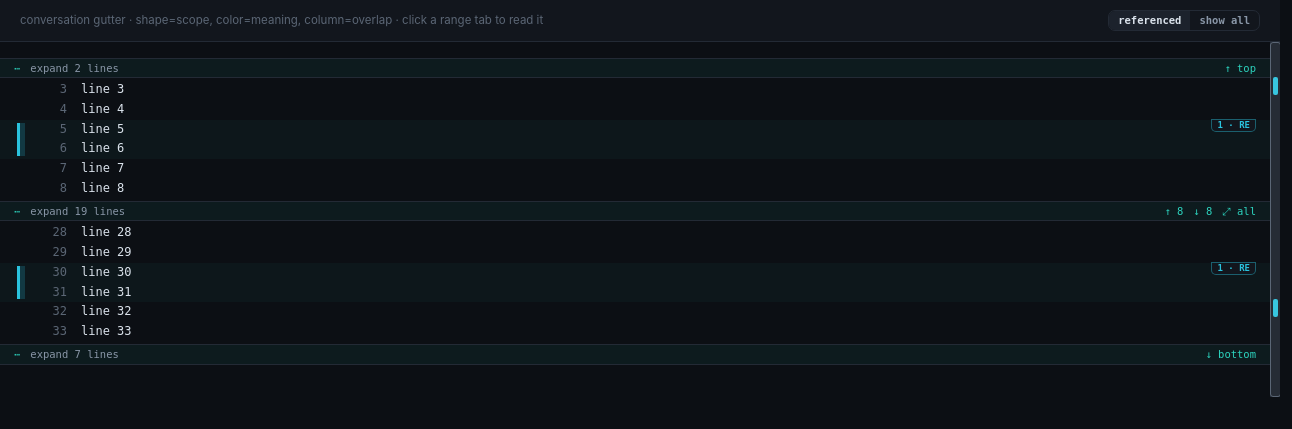
Scenario: CodeLens — piece 11 Phase 3: PR-style collapse › a top-edge fold has ONE button ("↑ top") that fully reveals in one click
Expected: the number of elements with test id "fold-row" is 3, x1=0 y1=58 x2=1270 y2=78; x1=0 y1=201 x2=1270 y2=221; x1=0 y1=344 x2=1270 y2=365
Click the button with test id "fold-expand-edge" showing "↑ top". click: click(1240, 68)
box: x1=1224 y1=62 x2=1256 y2=73
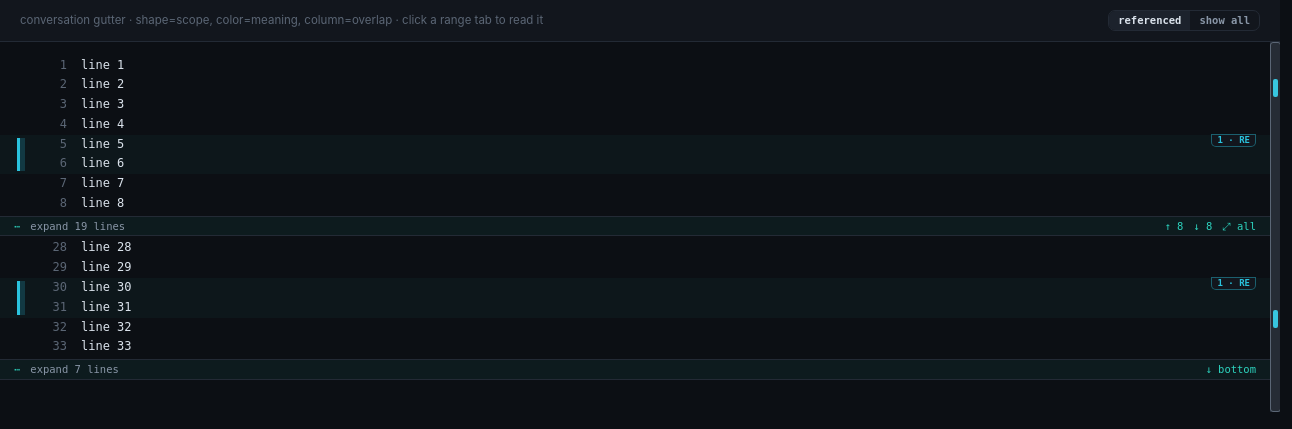
Expected: the number of elements with test id "fold-row" is 2, x1=0 y1=216 x2=1270 y2=236; x1=0 y1=359 x2=1270 y2=380
